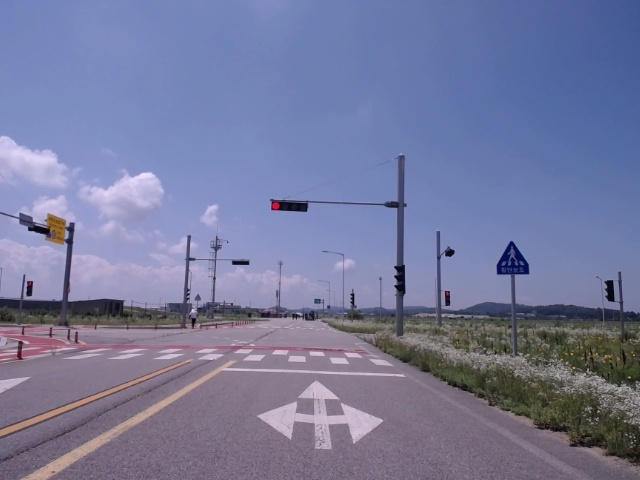red_4: (271, 201, 307, 212)
